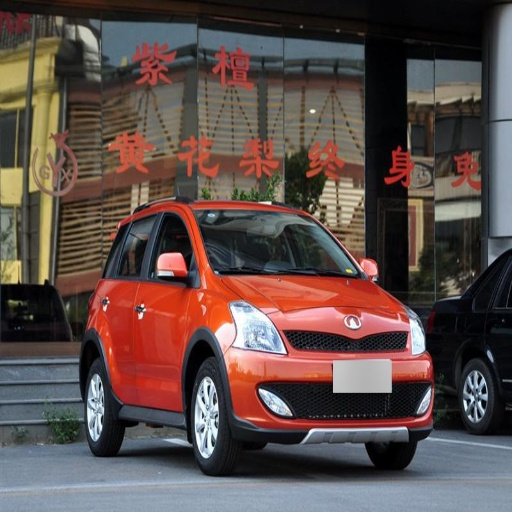front_bumper: (232, 329, 432, 442)
front_right_door: (135, 208, 198, 407)
front_right_light: (231, 303, 286, 354)
hood: (224, 276, 409, 339)
